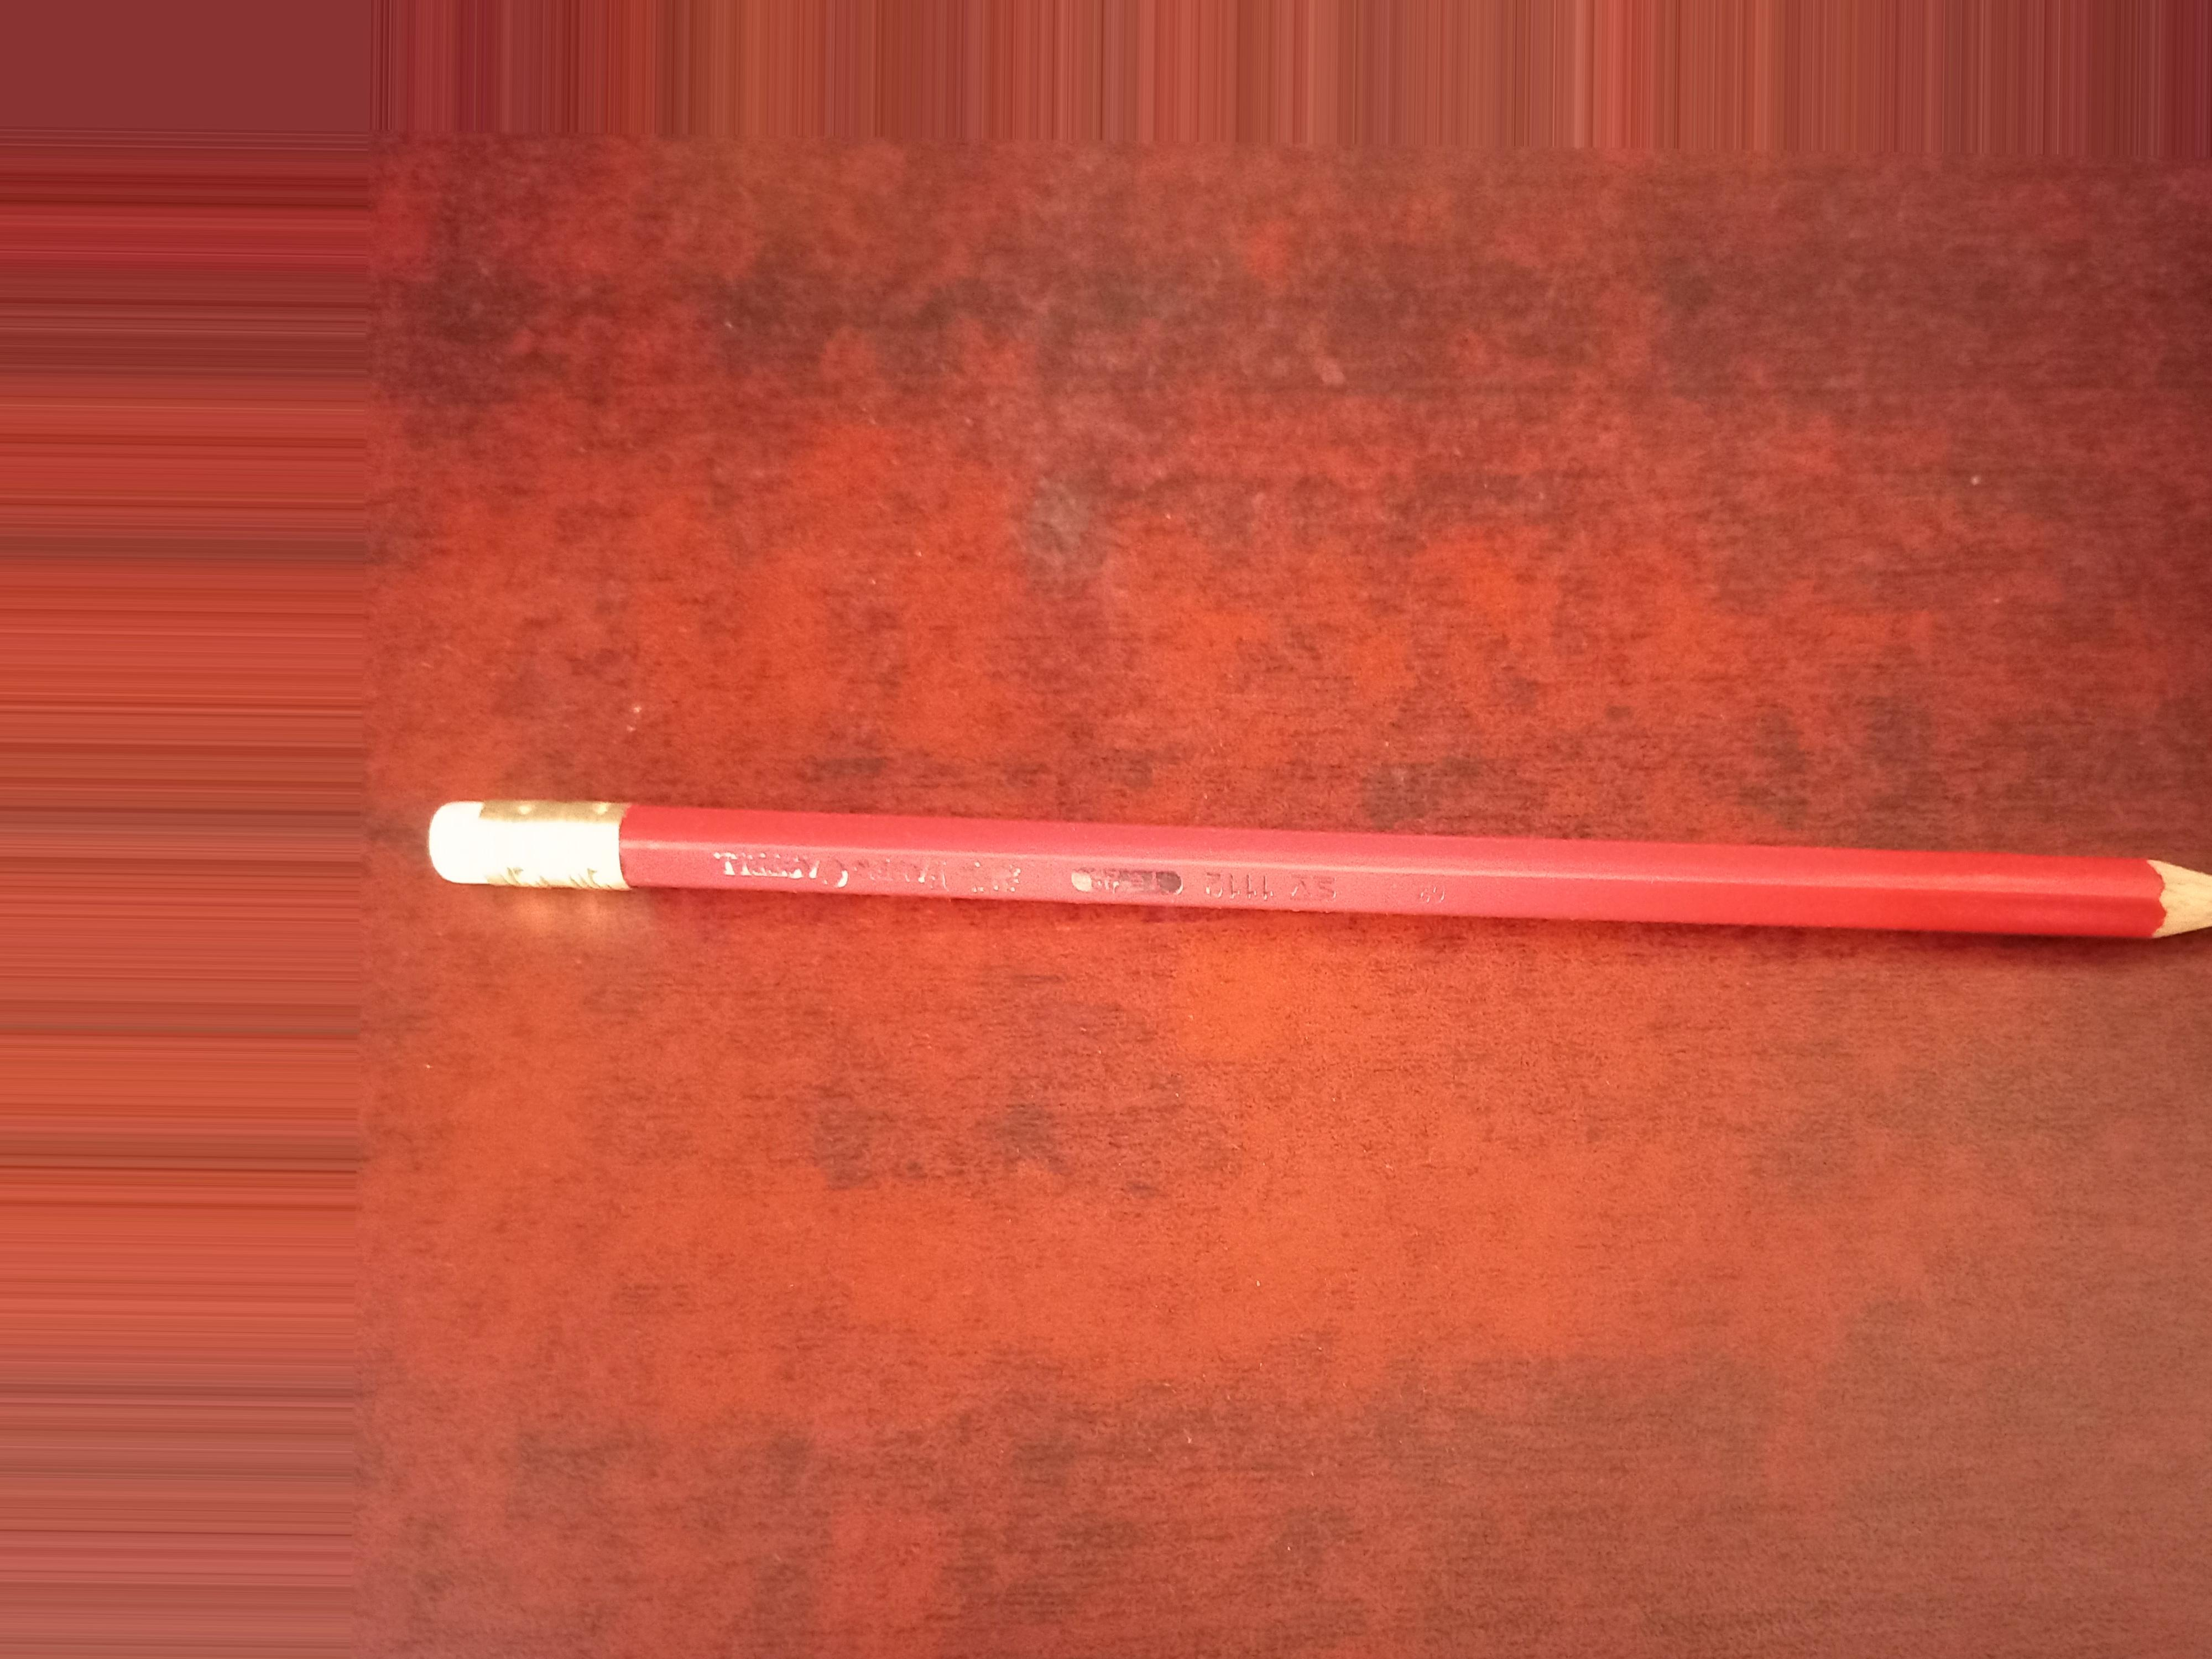pencil: (338, 742, 2212, 986)
